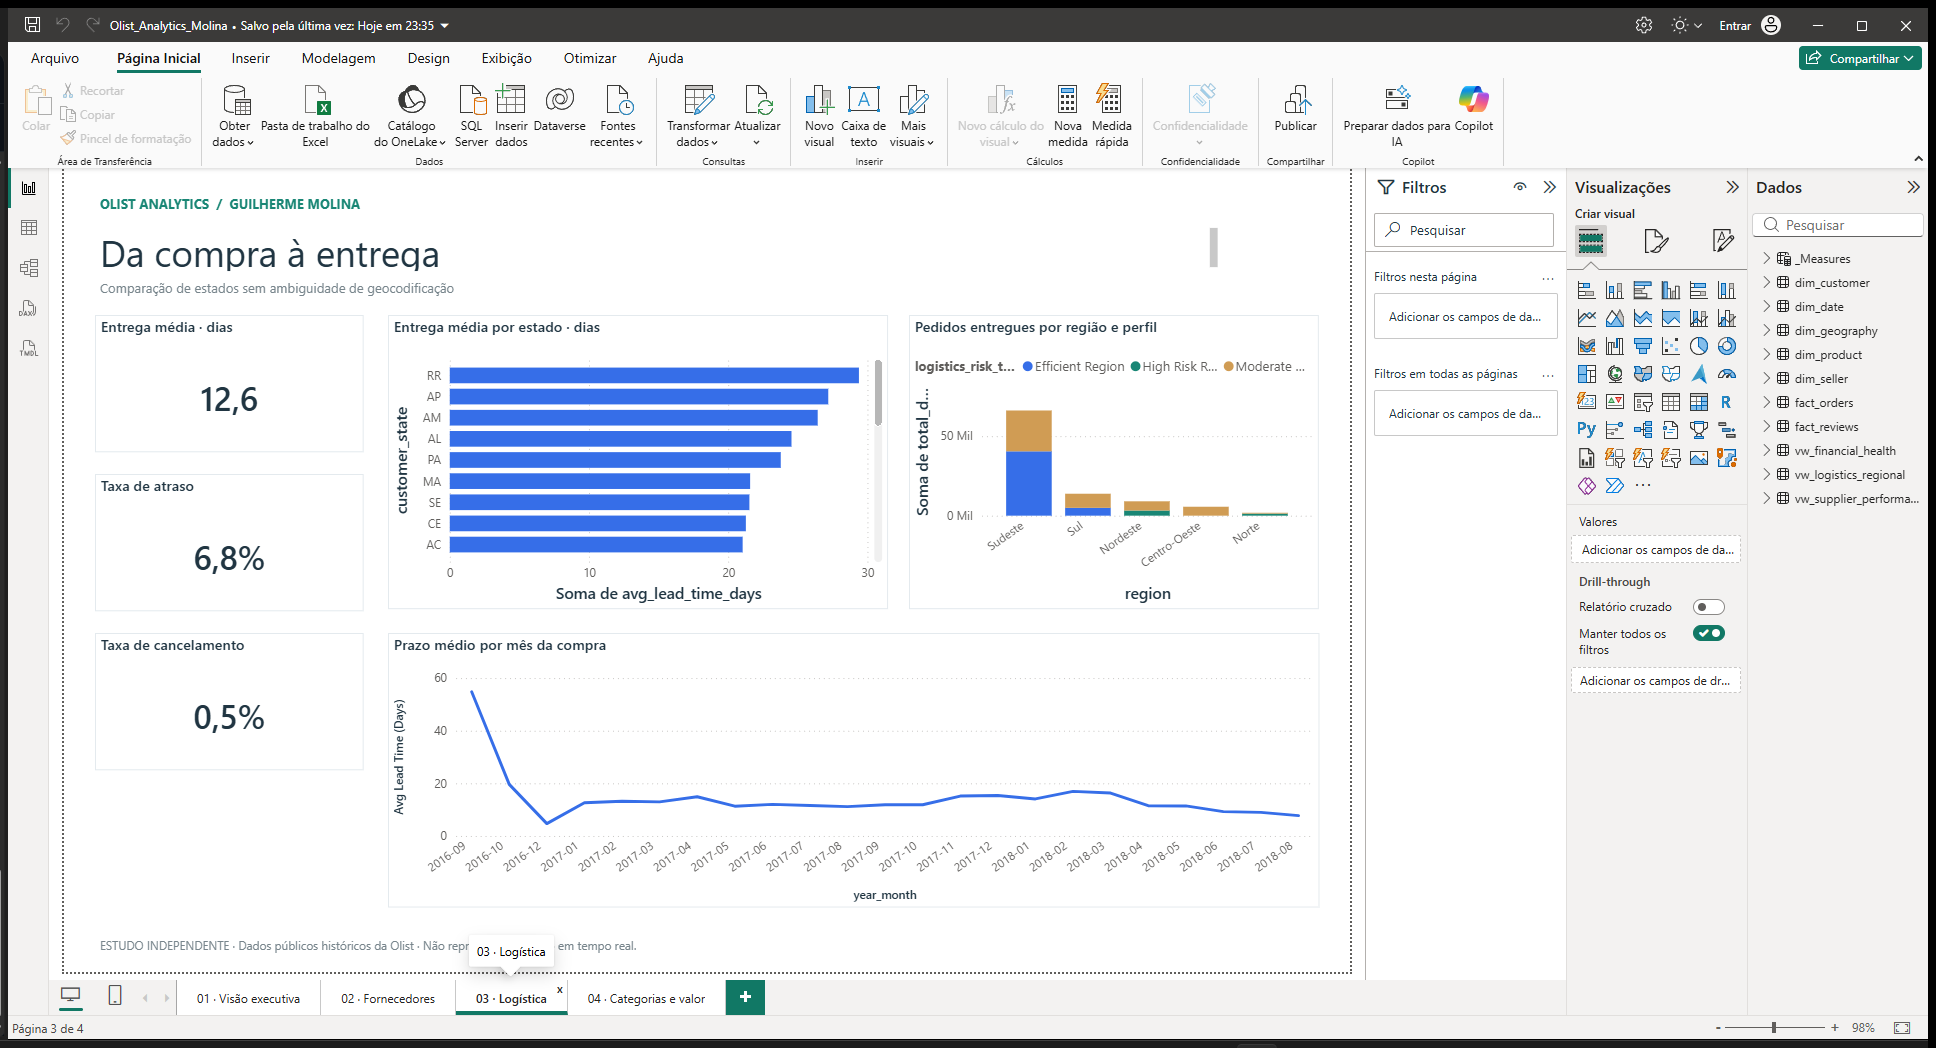

What the dashboard file says about the page in this screenshot:
{"tool":"powerbi","page":{"name":"03 · Logística","canvas":[1312,820],"ordinal":2},"visuals":[{"type":"card","title":"Entrega média · dias","fields":{"Values":["_Measures.Avg Lead Time (Days)"]},"box":[32,150,274,140],"z":0},{"type":"card","title":"Taxa de atraso","fields":{"Values":["_Measures.Delay Rate %"]},"box":[32,312,274,140],"z":1000},{"type":"card","title":"Taxa de cancelamento","fields":{"Values":["_Measures.Cancellation Rate %"]},"box":[32,474,274,140],"z":2000},{"type":"barChart","title":"Entrega média por estado · dias","fields":{"Category":["vw_logistics_regional.customer_state"],"Y":["Sum(vw_logistics_regional.avg_lead_time_days)"]},"box":[330,150,510,300],"z":3000},{"type":"columnChart","title":"Pedidos entregues por região e perfil","fields":{"Category":["vw_logistics_regional.region"],"Series":["vw_logistics_regional.logistics_risk_tier"],"Y":["Sum(vw_logistics_regional.total_delivered_orders)"]},"box":[862,150,418,300],"z":4000},{"type":"lineChart","title":"Prazo médio por mês da compra","fields":{"Category":["dim_date.year_month"],"Y":["_Measures.Avg Lead Time (Days)"]},"box":[330,474,950,280],"z":5000},{"type":"textbox","box":[32,22,1120,31],"z":6000},{"type":"textbox","box":[32,56,1150,54],"z":7000},{"type":"textbox","box":[32,108,1200,34],"z":8000},{"type":"textbox","box":[32,778,1220,31],"z":9000}]}

Visuals, with their boxes on the page's 1312x820 design canvas (x1, y1, x2, y2). These are canvas units, not pixel positions in the 1936x1048 screenshot, which may show the page scaled, cropped or inside an application window:
"Entrega média · dias" card: <box>32,150,306,290</box>
"Taxa de atraso" card: <box>32,312,306,452</box>
"Taxa de cancelamento" card: <box>32,474,306,614</box>
"Entrega média por estado · dias" barChart: <box>330,150,840,450</box>
"Pedidos entregues por região e perfil" columnChart: <box>862,150,1280,450</box>
"Prazo médio por mês da compra" lineChart: <box>330,474,1280,754</box>
textbox: <box>32,22,1152,53</box>
textbox: <box>32,56,1182,110</box>
textbox: <box>32,108,1232,142</box>
textbox: <box>32,778,1252,809</box>
